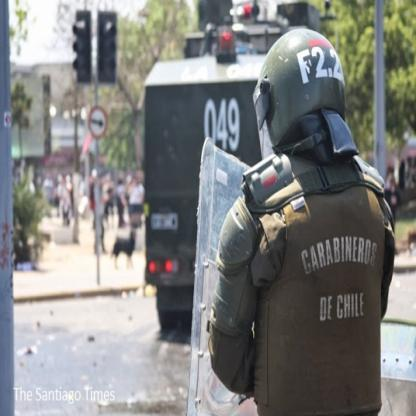Helmet: (250, 24, 376, 176)
